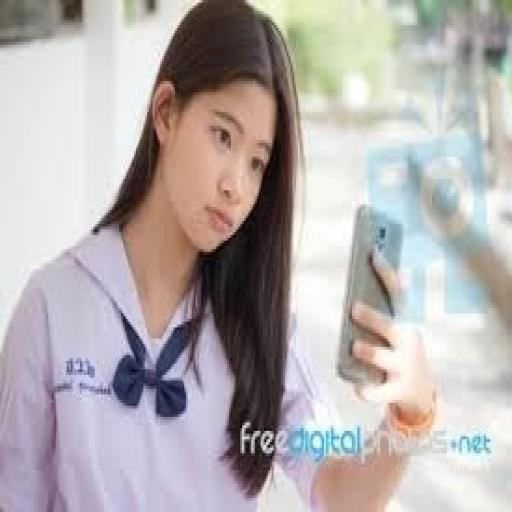texting: (0, 0, 438, 509)
